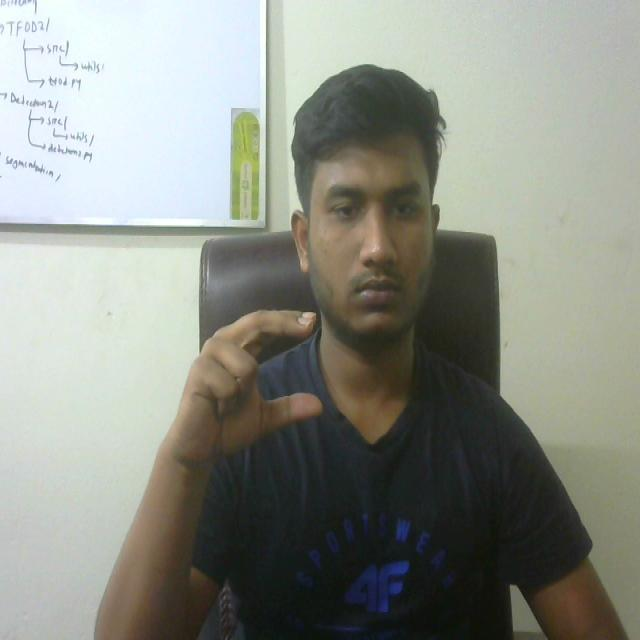No: (140, 291, 334, 478)
